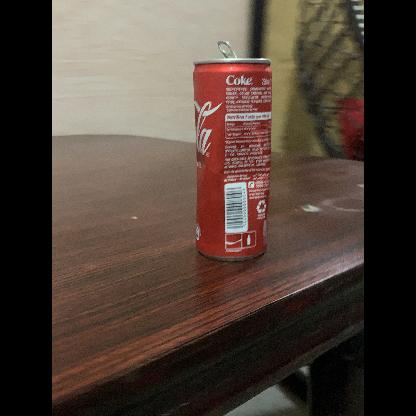Dent_Can: (223, 154, 271, 180), (213, 160, 240, 180), (196, 150, 212, 171)
Lid_Open: (212, 36, 246, 64)
Tin_Can: (183, 37, 279, 263)
